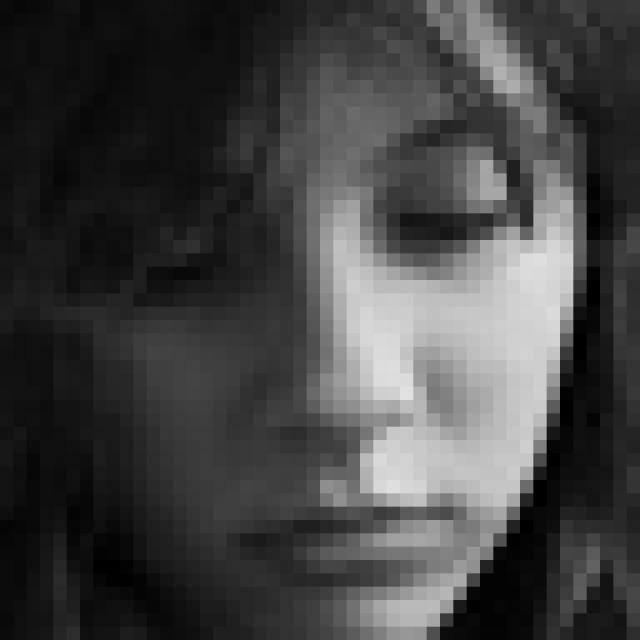sad: (130, 102, 534, 592)
